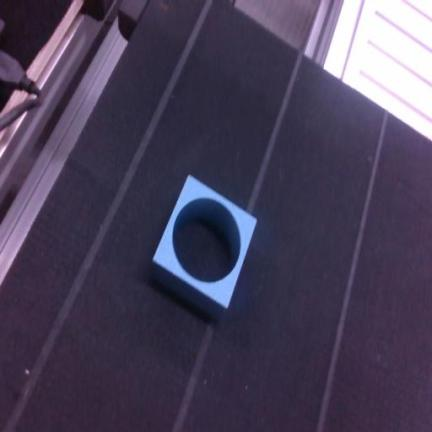square: (153, 176, 256, 317)
